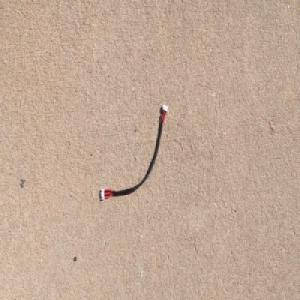Wire: (99, 102, 168, 203)
